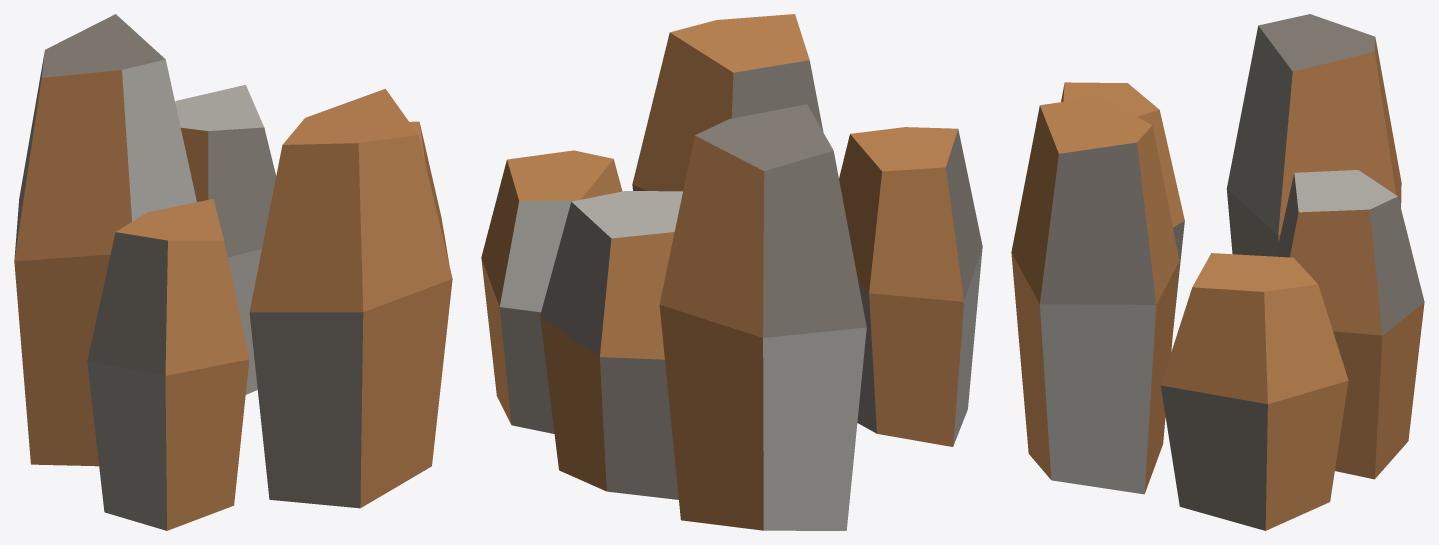
3 renders of one model, left to right at view 1: azimuth 30°, elevation 25°; view 2: azimuth 150°, elevation 25°; view 3: azimuth 270°, elevation 25°, orthographic. The views are drawn at different scales.
Parts seen in each view (by area): view 1: Iron_Deposit; view 2: Iron_Deposit; view 3: Iron_Deposit.
Part boxes in pixels (<box>): Iron_Deposit: <box>14,14,452,530</box>; Iron_Deposit: <box>481,14,982,530</box>; Iron_Deposit: <box>1011,14,1424,530</box>.
Size of the model in its own units: 0.8646 by 0.7788 by 0.7545.
